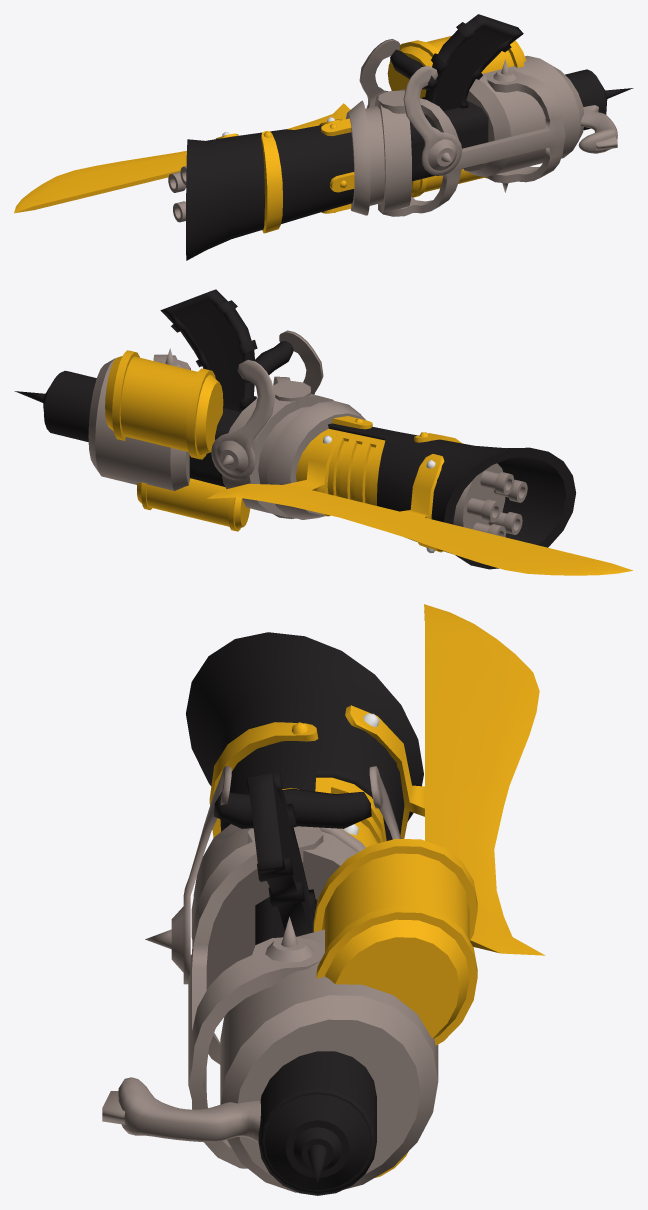
Rendered from robotmainrobotgunmachin.fbx.
3 views of the same model, one above another, from view 1: azimuth 30°, elevation 25°; view 2: azimuth 150°, elevation 25°; view 3: azimuth 270°, elevation 25° (orthographic). The views are drawn at different scales.
Parts seen in each view (by area): view 1: polySurface23, polySurface13, polySurface19, polySurface7, polySurface6, polySurface37, polySurface9.001, polySurface16, polySurface18, polySurface24, polySurface15, polySurface21 (+5 smaller); view 2: polySurface6, polySurface23, polySurface18, polySurface7, polySurface37, polySurface19, polySurface9.001, polySurface22, polySurface20.001, polySurface17, polySurface15, polySurface13 (+2 smaller); view 3: polySurface6, polySurface23, polySurface19, polySurface18, polySurface15, polySurface13, polySurface7, polySurface37, polySurface21, polySurface8, polySurface9.001, polySurface24 (+2 smaller).
Boxes of the visible parts, left/top/right/bottom form: polySurface23: left=186, top=124, right=353, bottom=260; polySurface13: left=378, top=59, right=565, bottom=216; polySurface19: left=464, top=55, right=583, bottom=176; polySurface7: left=346, top=89, right=411, bottom=215; polySurface6: left=14, top=103, right=350, bottom=213; polySurface37: left=422, top=14, right=523, bottom=111; polySurface9.001: left=359, top=39, right=462, bottom=175; polySurface16: left=410, top=100, right=488, bottom=181; polySurface18: left=387, top=36, right=526, bottom=98; polySurface24: left=261, top=131, right=282, bottom=233; polySurface15: left=565, top=69, right=633, bottom=130; polySurface21: left=578, top=105, right=617, bottom=153; polySurface6: left=207, top=432, right=632, bottom=575; polySurface23: left=328, top=423, right=575, bottom=569; polySurface18: left=105, top=350, right=223, bottom=459; polySurface7: left=222, top=394, right=365, bottom=519; polySurface37: left=160, top=289, right=257, bottom=412; polySurface19: left=88, top=358, right=190, bottom=490; polySurface9.001: left=211, top=330, right=323, bottom=480; polySurface22: left=296, top=429, right=385, bottom=505; polySurface20.001: left=453, top=463, right=527, bottom=537; polySurface17: left=137, top=478, right=250, bottom=531; polySurface15: left=14, top=370, right=96, bottom=441; polySurface13: left=153, top=348, right=310, bottom=519; polySurface6: left=342, top=604, right=545, bottom=955; polySurface23: left=186, top=632, right=423, bottom=840; polySurface19: left=220, top=929, right=438, bottom=1192; polySurface18: left=313, top=838, right=477, bottom=1045; polySurface15: left=258, top=1051, right=376, bottom=1195; polySurface13: left=188, top=826, right=324, bottom=1168; polySurface7: left=191, top=824, right=365, bottom=989; polySurface37: left=246, top=772, right=316, bottom=936; polySurface21: left=118, top=1077, right=260, bottom=1142; polySurface8: left=214, top=788, right=371, bottom=828; polySurface9.001: left=145, top=766, right=401, bottom=984; polySurface24: left=209, top=722, right=318, bottom=837.
Size of the model in its own units: 4.98 by 1.53 by 1.61.
